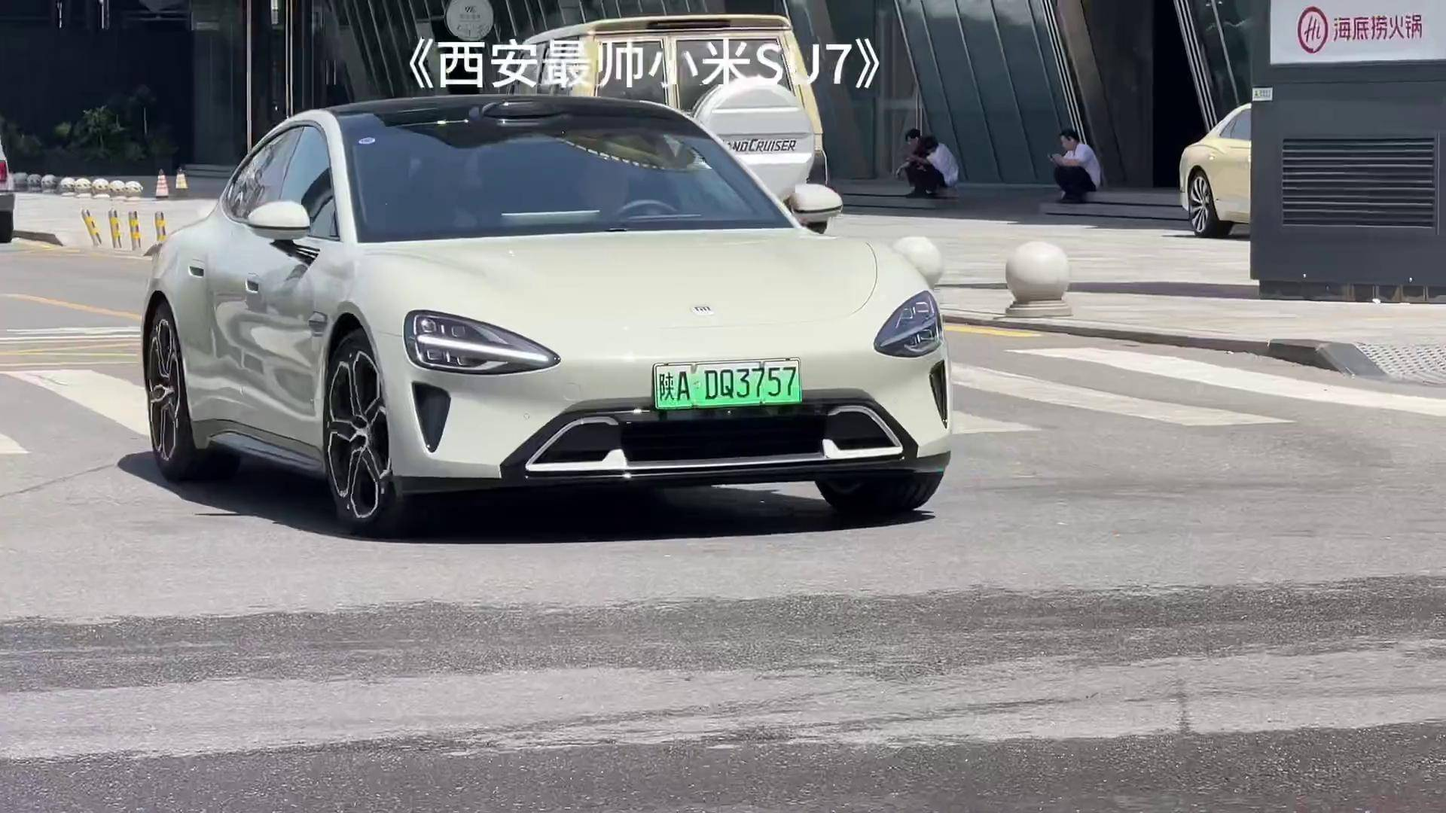su7: (136, 93, 954, 535)
